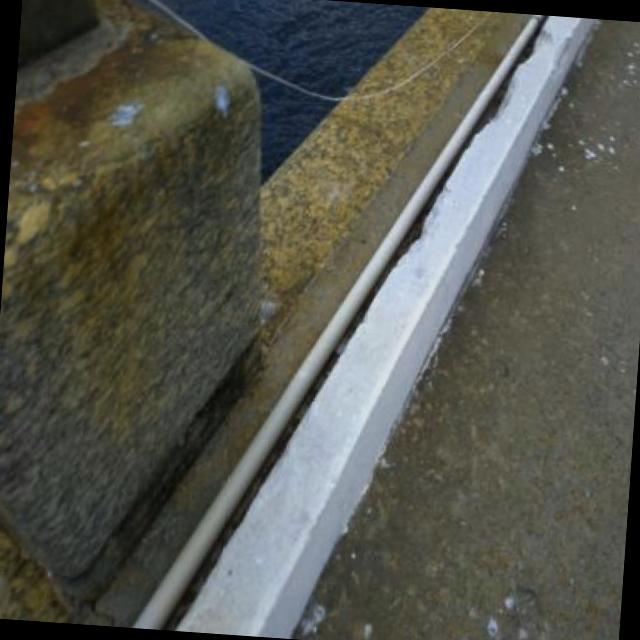gas: (134, 14, 546, 629)
